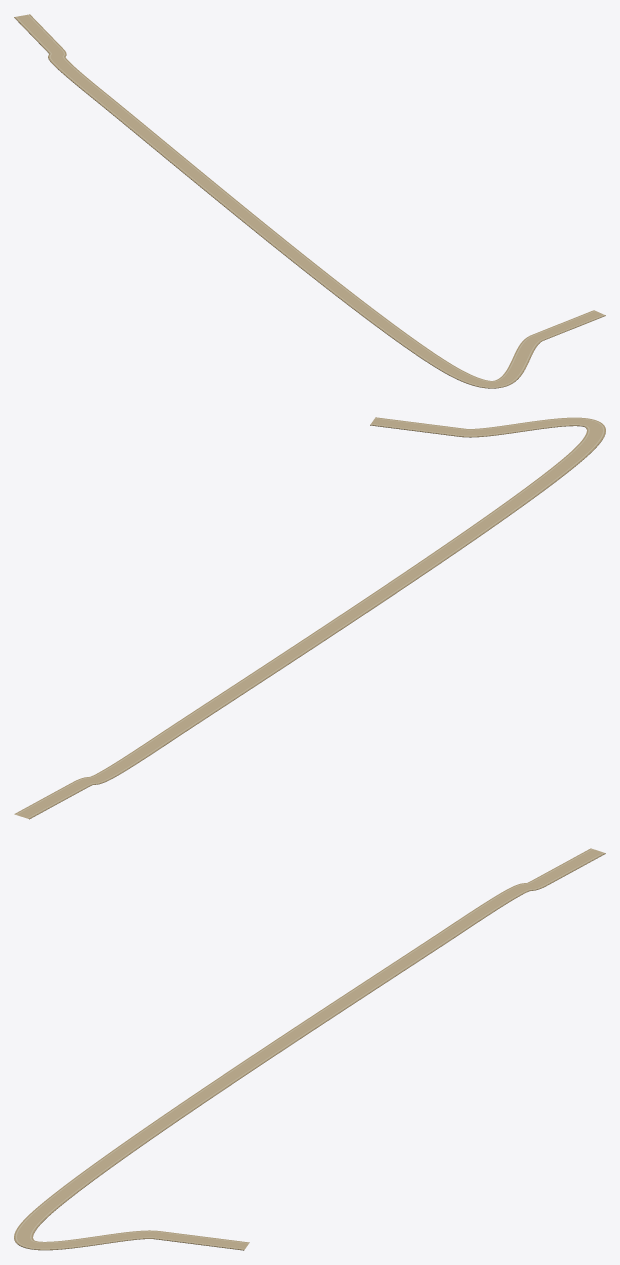
The model's file is road_roam_to_dust_valley.glb.
The picture shows the model from 3 angles, top to bottom: view 1: azimuth 30°, elevation 25°; view 2: azimuth 150°, elevation 25°; view 3: azimuth 330°, elevation 25°; orthographic projection. The views are drawn at different scales.
Parts seen in each view (by area): view 1: road; view 2: road; view 3: road.
Boxes of the visible parts, bbox=[...] form: road: bbox=[14, 14, 605, 388]; road: bbox=[14, 417, 605, 819]; road: bbox=[14, 848, 605, 1250].
Bounding box in the file's own units: 146 × 0.32 × 692.
